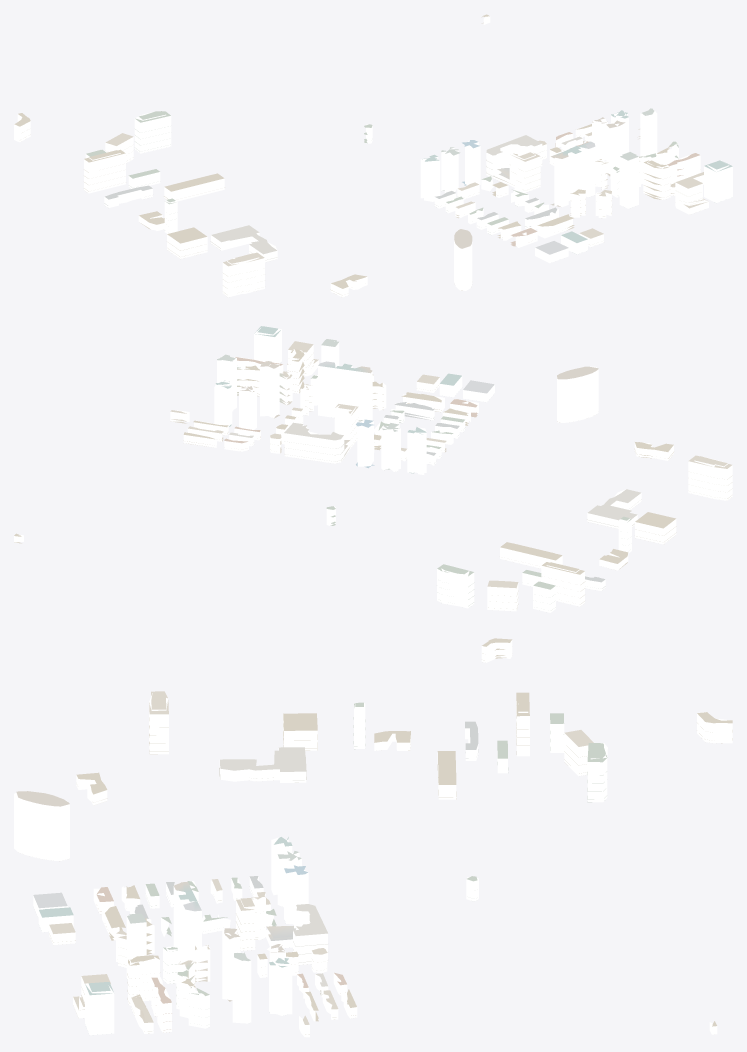
The model's file is buildings--3_0-coarse.glb.
3 renders of one model, top to bottom at view 1: azimuth 30°, elevation 25°; view 2: azimuth 150°, elevation 25°; view 3: azimuth 270°, elevation 25°, orthographic. The views are drawn at different scales.
Parts seen in each view (by area): view 1: block_-3_0_residential, block_-3_0_office, block_-3_0_roof; view 2: block_-3_0_residential, block_-3_0_office, block_-3_0_roof; view 3: block_-3_0_residential, block_-3_0_roof, block_-3_0_office.
Boxes of the visible parts, box(x1,y1,x2,y2) form: block_-3_0_residential: box(14, 16, 703, 297); block_-3_0_office: box(420, 109, 732, 290); block_-3_0_roof: box(14, 14, 732, 295); block_-3_0_residential: box(14, 345, 732, 662); block_-3_0_office: box(214, 328, 598, 474); block_-3_0_roof: box(14, 326, 732, 660); block_-3_0_residential: box(49, 693, 732, 1037); block_-3_0_roof: box(16, 691, 732, 1034); block_-3_0_office: box(14, 792, 308, 1035).
Size of the model in its own units: 651 by 65.77 by 645.
